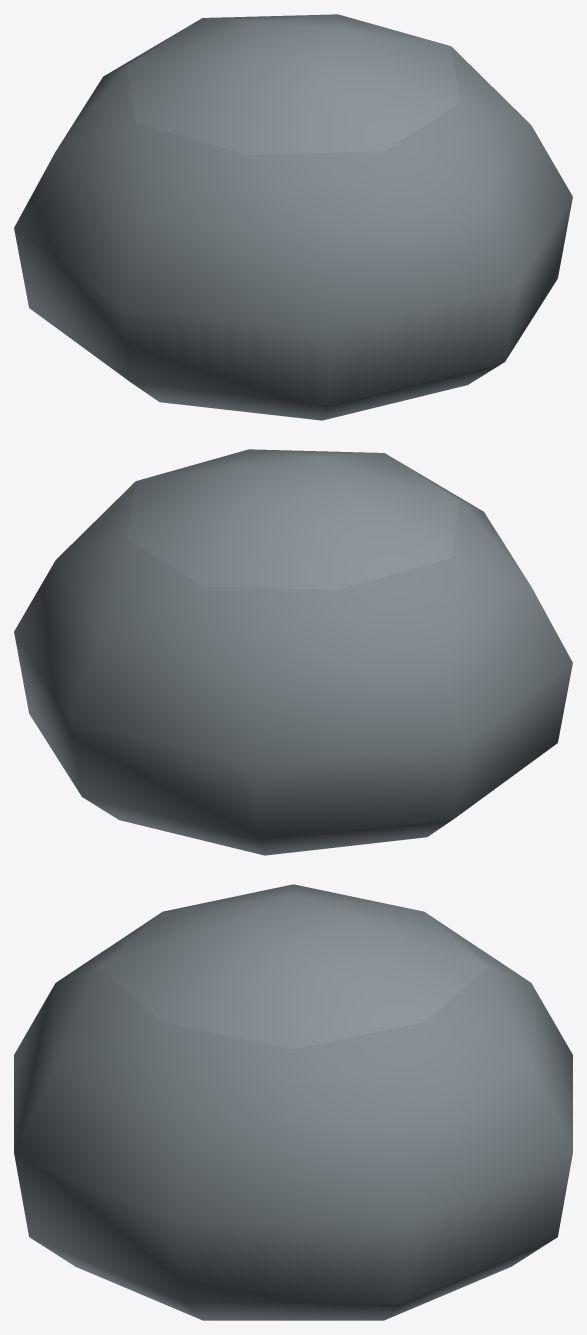
Rendered from Rock_5_B_Color1.gltf.
3 views of the same model, one above another, from view 1: azimuth 30°, elevation 25°; view 2: azimuth 150°, elevation 25°; view 3: azimuth 270°, elevation 25° (orthographic). The views are drawn at different scales.
Parts seen in each view (by area): view 1: Rock_5_B_Color1; view 2: Rock_5_B_Color1; view 3: Rock_5_B_Color1.
Part boxes in pixels (x1=…): Rock_5_B_Color1: x1=14, y1=14, x2=572, y2=420; Rock_5_B_Color1: x1=14, y1=449, x2=572, y2=855; Rock_5_B_Color1: x1=14, y1=884, x2=572, y2=1320.
Bounding box in the file's own units: 0.3336 × 0.2036 × 0.3336.
1 material, 1 textured.
